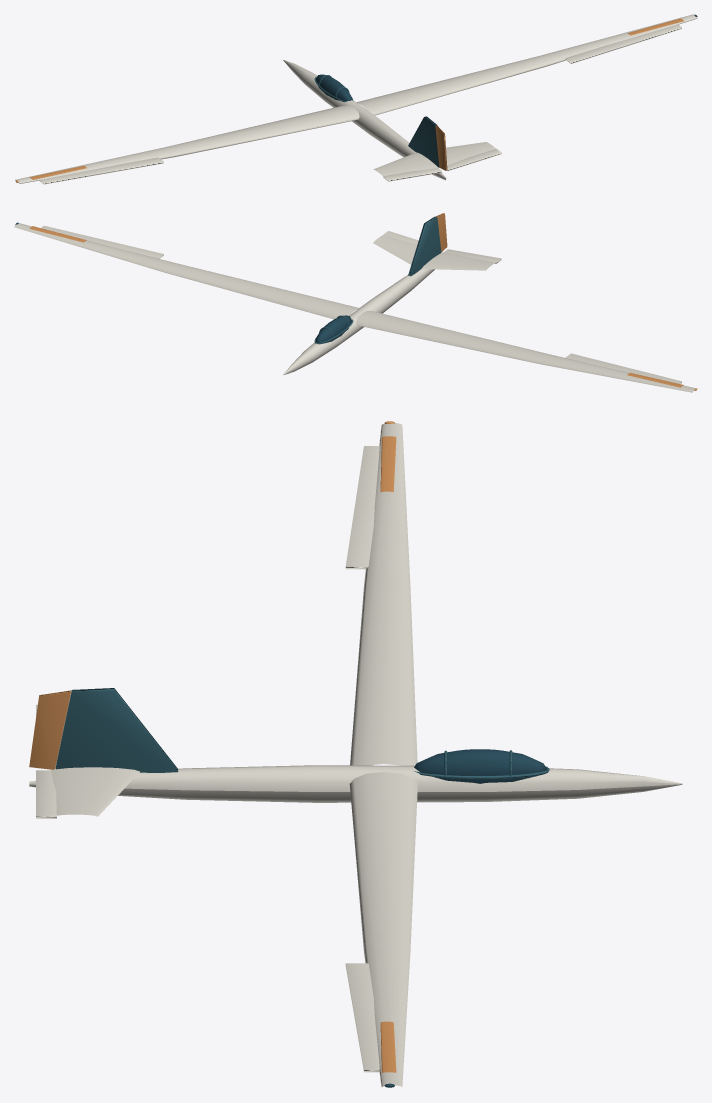
Rendered from player-whisper-mobile-v1.glb.
3 renders of one model, top to bottom at view 1: azimuth 30°, elevation 25°; view 2: azimuth 150°, elevation 25°; view 3: azimuth 270°, elevation 25°, orthographic. The views are drawn at different scales.
Visible parts, largest first — view 1: hull, trim, aileron-right, aileron-left, glass, accent, elevator-right, rudder, elevator-left; view 2: hull, trim, aileron-right, aileron-left, glass, accent; view 3: hull, trim, glass, aileron-left, aileron-right, rudder, accent.
Boxes of the visible parts, x1,y1,x2,y2 form: hull: (15,14,697,183); trim: (314,75,439,167); aileron-right: (565,24,681,63); aileron-left: (39,157,163,184); glass: (315,14,697,101); accent: (15,18,683,182); elevator-right: (447,148,501,170); rudder: (435,125,447,170); elevator-left: (383,168,441,181); hull: (14,223,695,392); trim: (314,216,441,344); aileron-right: (41,225,163,258); aileron-left: (565,353,681,383); glass: (15,222,351,343); accent: (29,226,697,390); hull: (29,423,682,1087); trim: (55,688,549,778); glass: (384,749,546,1087); aileron-left: (345,446,379,569); aileron-right: (345,963,379,1072); rudder: (29,690,71,769); accent: (380,421,396,1072).
Size of the model in its own units: 19.26 by 1.51 by 8.
